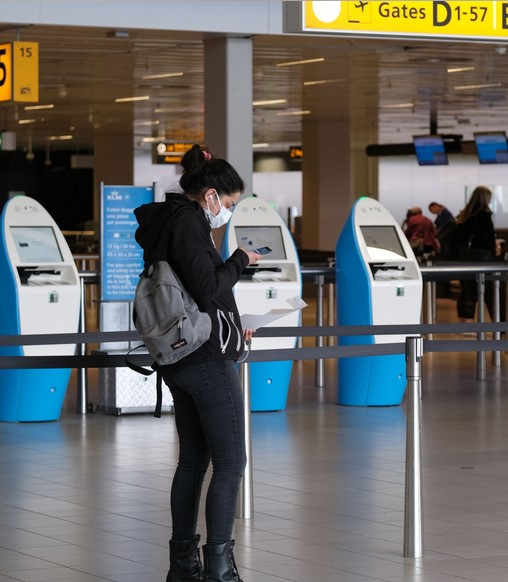face_with_mask: (183, 147, 243, 235)
